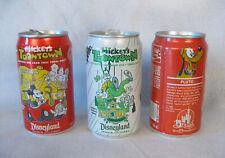metal: (17, 30, 75, 134), (87, 30, 142, 136), (152, 32, 208, 135)
